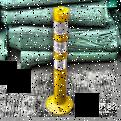bench: (45, 5, 73, 113)
